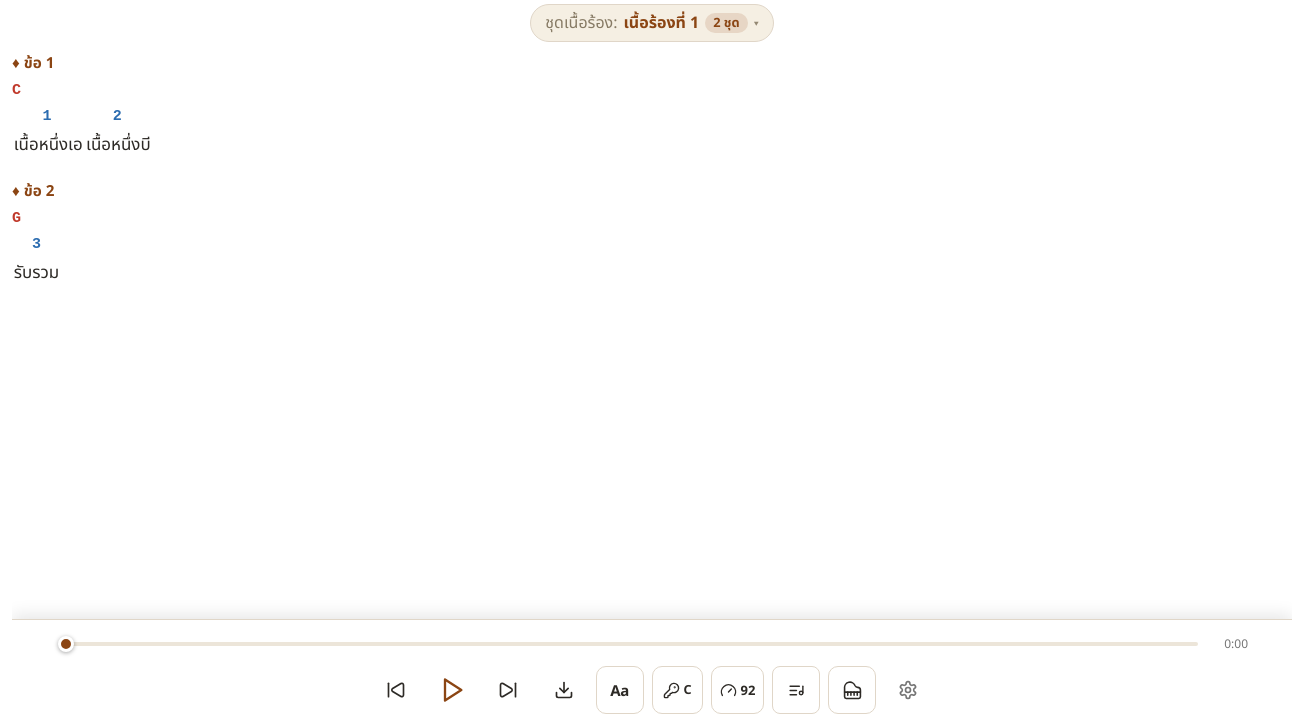
Test: SongViewer — the lyric-set switcher is a collapsed disclosure › picking a set applies it, folds the panel back and re-labels the summary
This screenshot has width=1292, height=720.
Click the button with class "lset-summary" at x=652, y=23, box 530,4 -> 774,42
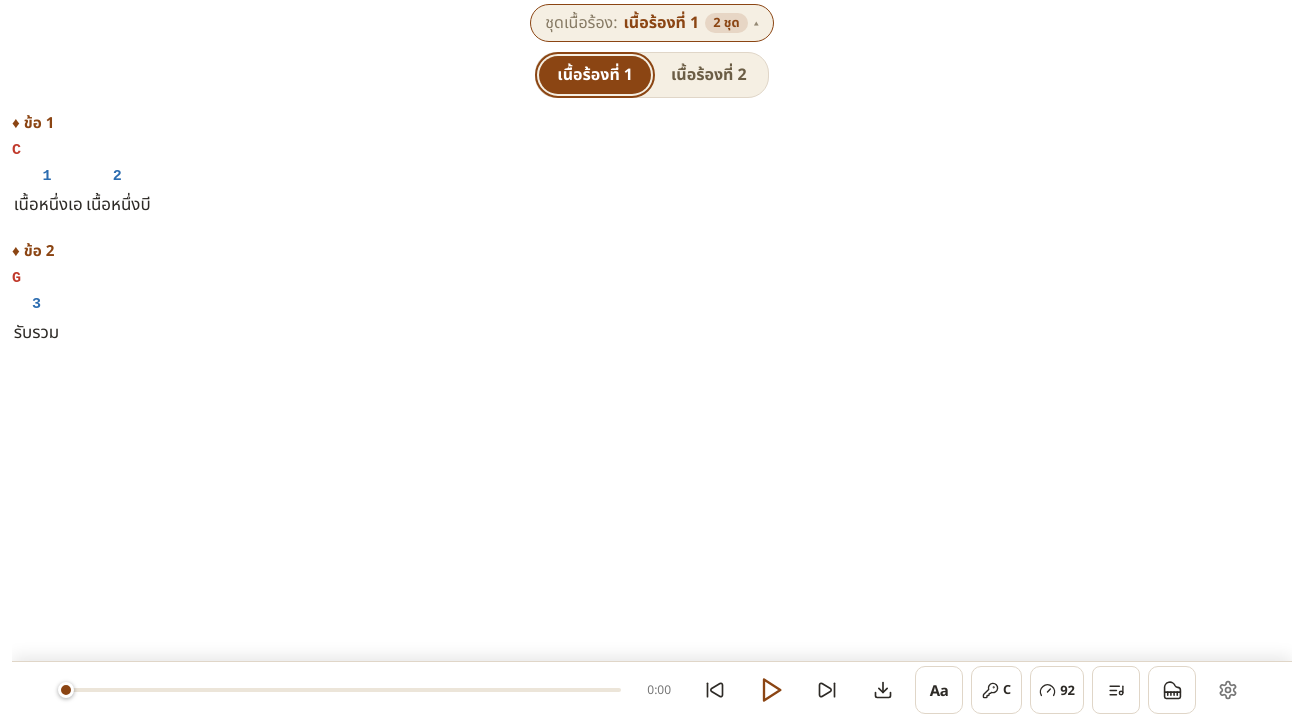
Click the tab with class "lset-tab" showing "เนื้อร้องที่ 2" at x=709, y=75, box 653,56 -> 765,94
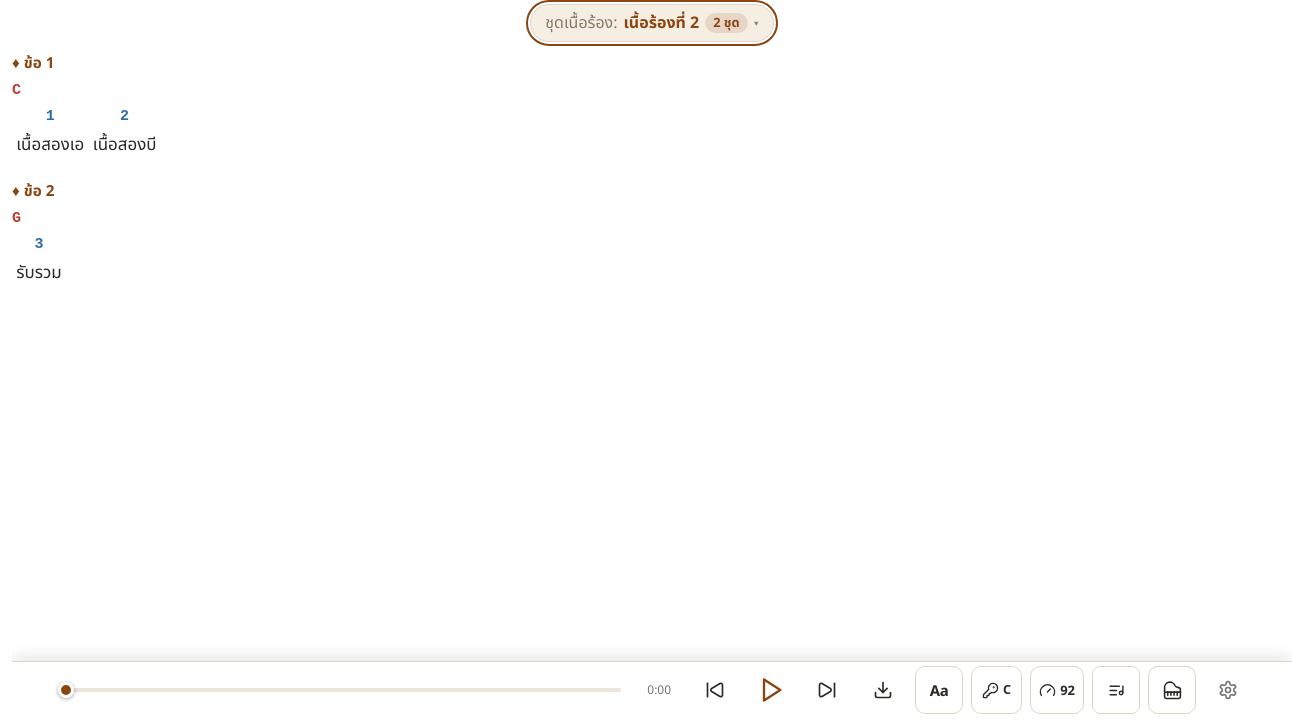
Result: the button with class "lset-summary" is collapsed at 530,4 -> 774,42
Result: the button with class "lset-summary" shows "เนื้อร้องที่ 2" at 530,4 -> 774,42
Result: the text "เนื้อสองเอ" is shown at 14,132 -> 86,156
